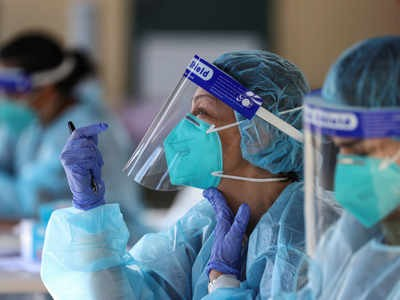Face_Shield: (118, 49, 276, 193), (302, 96, 400, 261)
Gloves: (59, 121, 111, 219), (201, 186, 253, 283)
with_mask: (165, 101, 231, 191), (332, 142, 400, 228)
